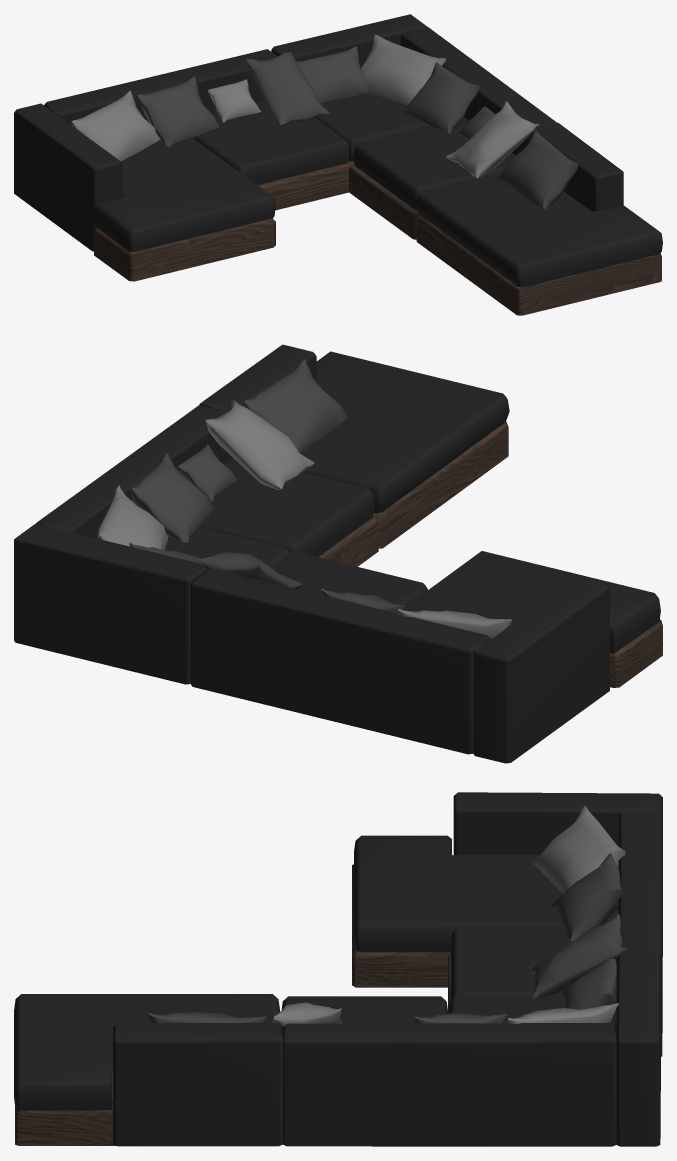
File: sofa_025.fbx
The picture shows the model from 3 angles, top to bottom: view 1: azimuth 30°, elevation 25°; view 2: azimuth 150°, elevation 25°; view 3: azimuth 270°, elevation 25°; orthographic projection. The views are drawn at different scales.
Visible parts, largest first — view 1: sofa_025; view 2: sofa_025; view 3: sofa_025.
Boxes of the visible parts, x1,y1,x2,y2 form: sofa_025: (14,14,662,315); sofa_025: (14,344,662,763); sofa_025: (14,792,662,1146).
Size of the model in its own units: 455 by 498 by 101.
